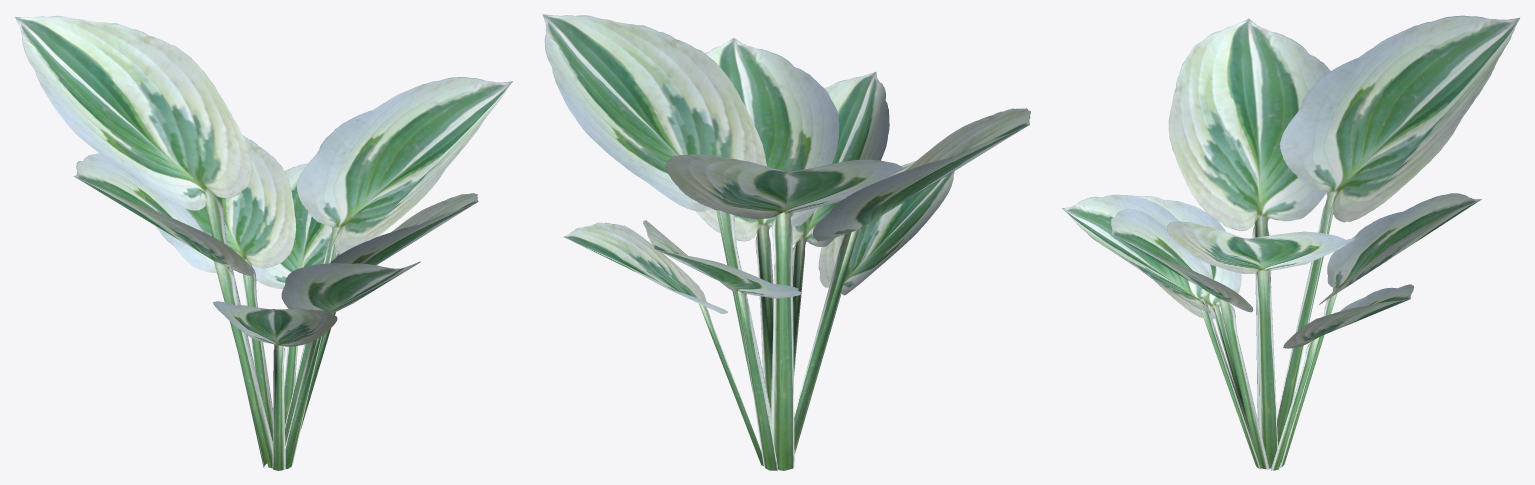
File: plant_small_wg_01A.fbx
The picture shows the model from 3 angles, left to right: view 1: azimuth 30°, elevation 25°; view 2: azimuth 150°, elevation 25°; view 3: azimuth 270°, elevation 25°; orthographic projection. The views are drawn at different scales.
Visible parts, largest first — view 1: plant_small_wg_01A; view 2: plant_small_wg_01A; view 3: plant_small_wg_01A.
Part boxes in pixels (x1,y1,x2,y2): plant_small_wg_01A: (15, 15, 512, 470); plant_small_wg_01A: (542, 14, 1030, 470); plant_small_wg_01A: (1061, 15, 1519, 470).
Bounding box in the file's own units: 56.42 × 47.73 × 52.03.
